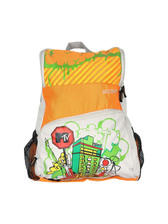bag: (24, 41, 147, 186)
